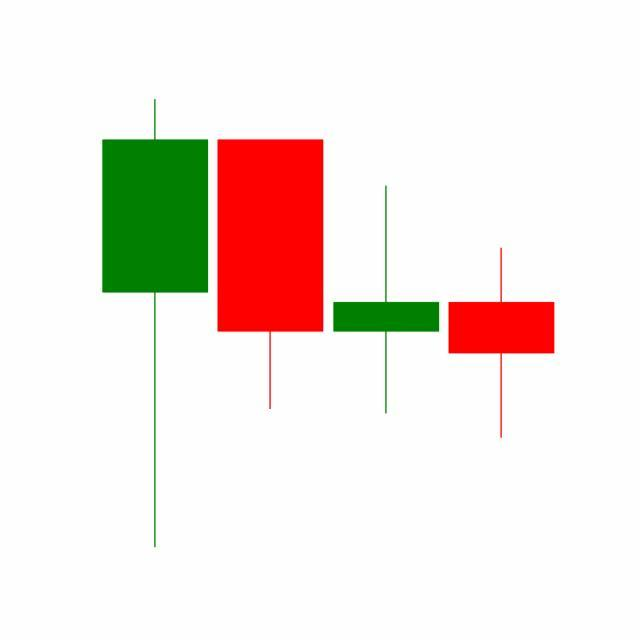Spinning Top: (329, 184, 445, 418)
